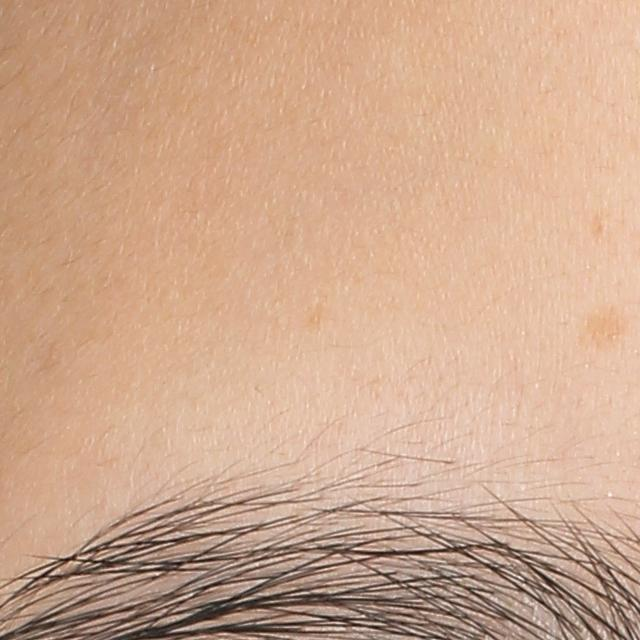melasma: (574, 303, 637, 351)
